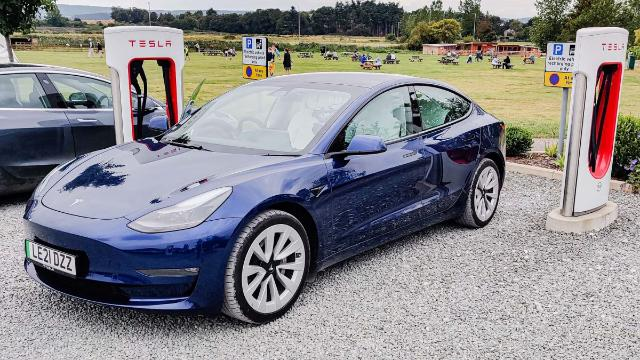tesla: (21, 72, 506, 324)
